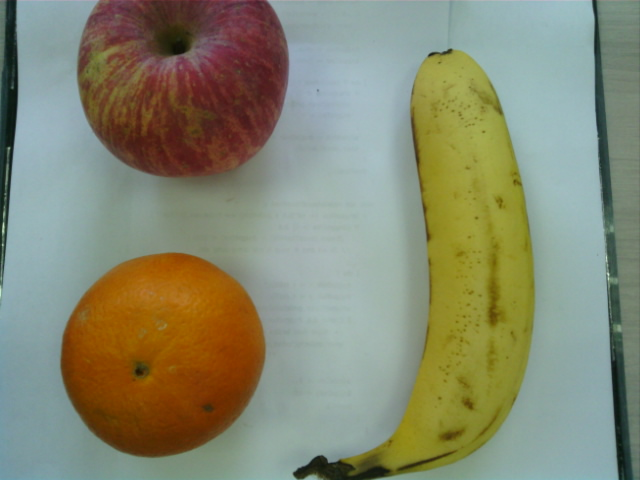normal_apple: (78, 2, 290, 178)
normal_banana: (378, 47, 538, 474)
normal_orange: (59, 253, 267, 458)
